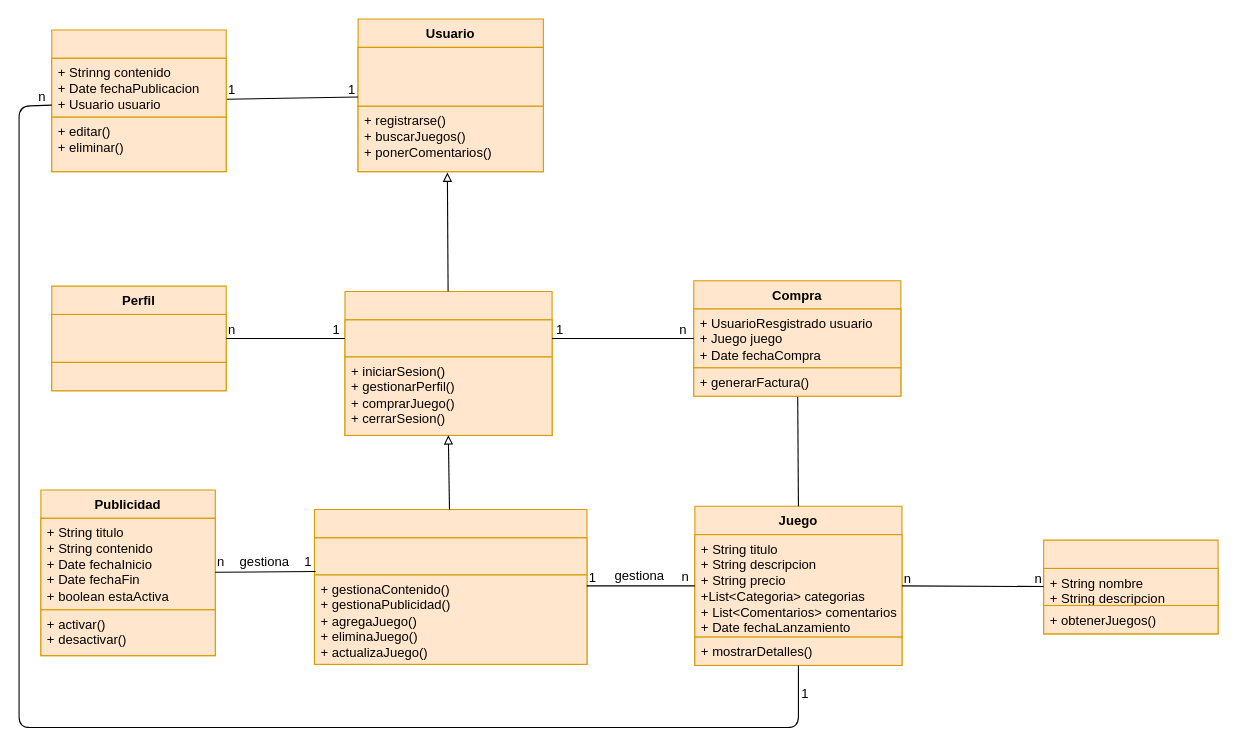
The diagram is 1237 pixels wide and 748 high, and some of its shapes have lost their labels. Here are the shapes that lost their labels. From the top down, the box of each, then its label:
(357, 46, 543, 106): + String email + String contrasenia + String nombreUsuario
(51, 29, 226, 172): Comentario
(51, 313, 226, 362): + String nombreCompleto + String infoContacto
(344, 319, 552, 357): + Perfil perfil + List<Juego> juegosComprados
(51, 361, 226, 391): + actualizarInfo()
(344, 290, 552, 435): Usuario Registrado
(313, 537, 587, 575): + List<Juego> juegosGestionados + List<Publicidad> publicidadGestionada
(313, 508, 587, 664): Administrador
(1043, 539, 1218, 634): Categoria
